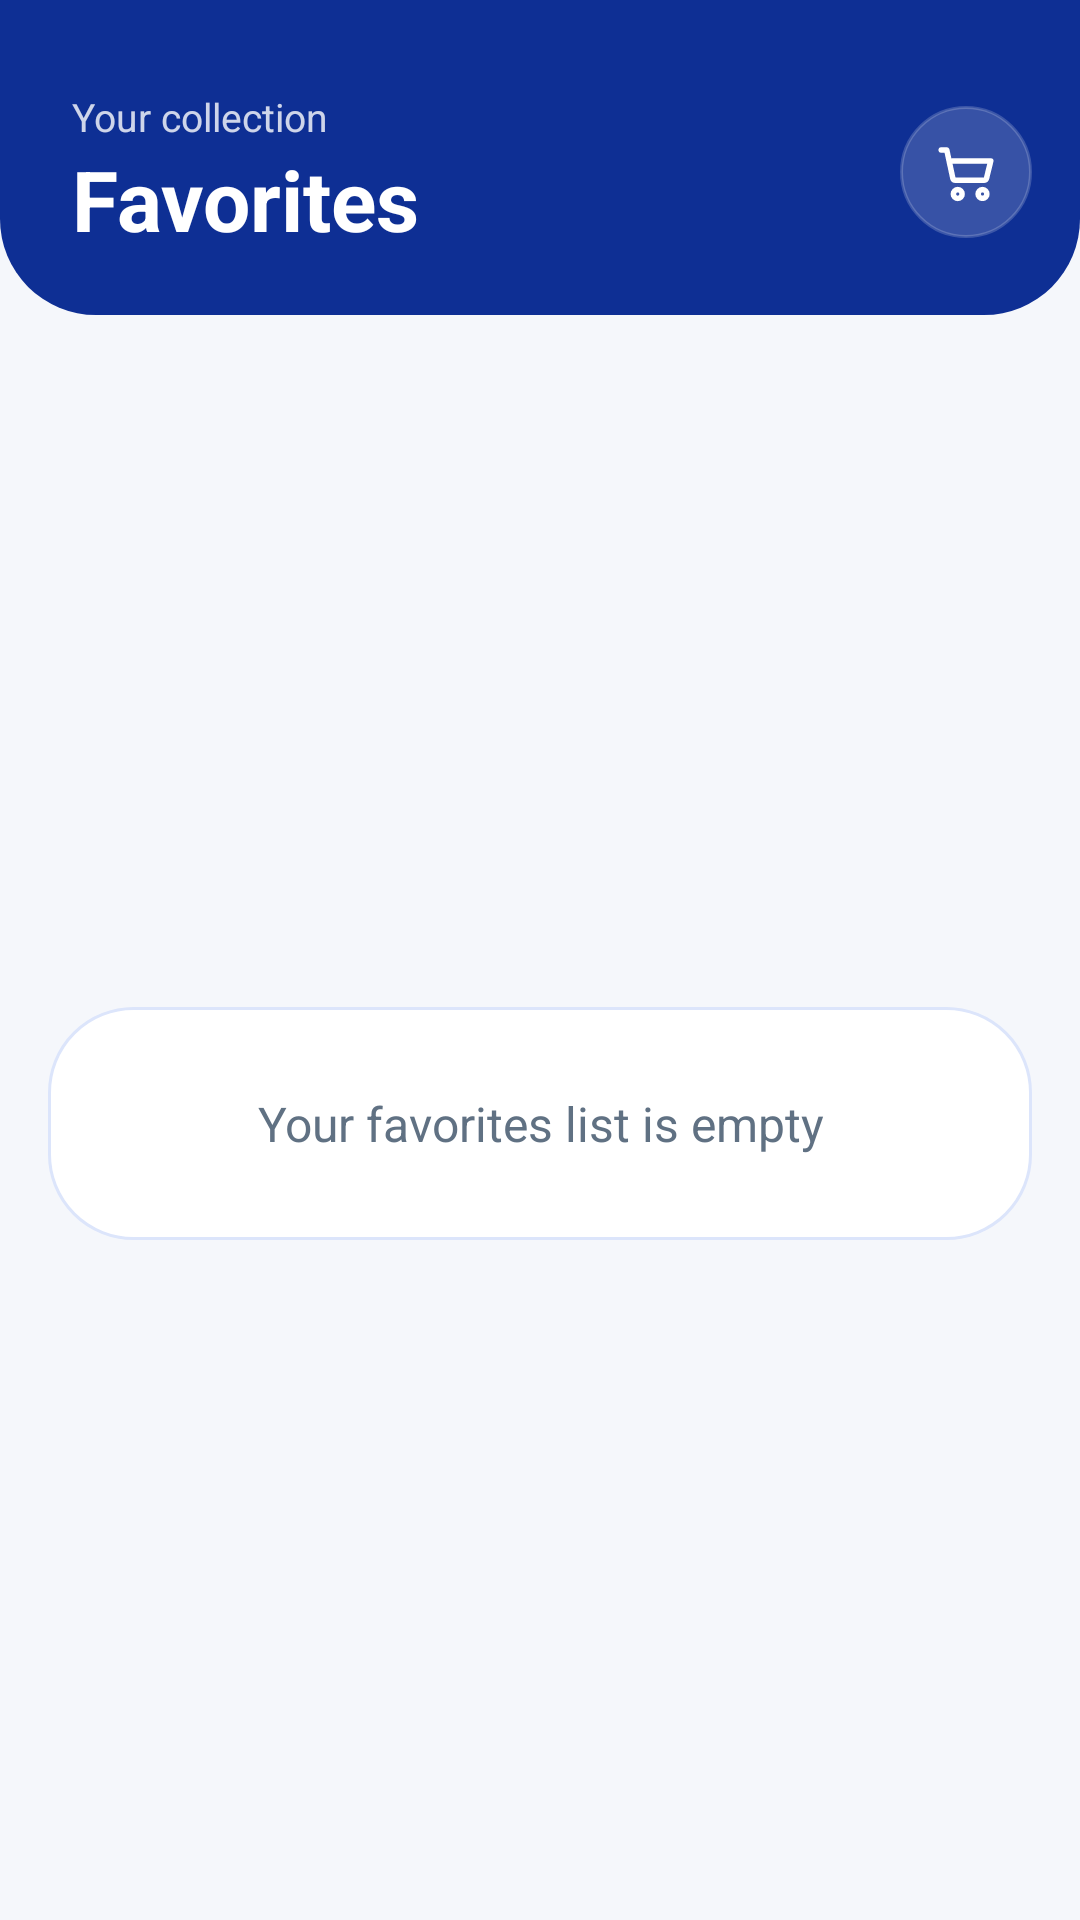

Icons on this 1080 x 1920 Android screen, each with its box as region(x1, y1, x2, y2):
Cart: region(900, 106, 1032, 238)
